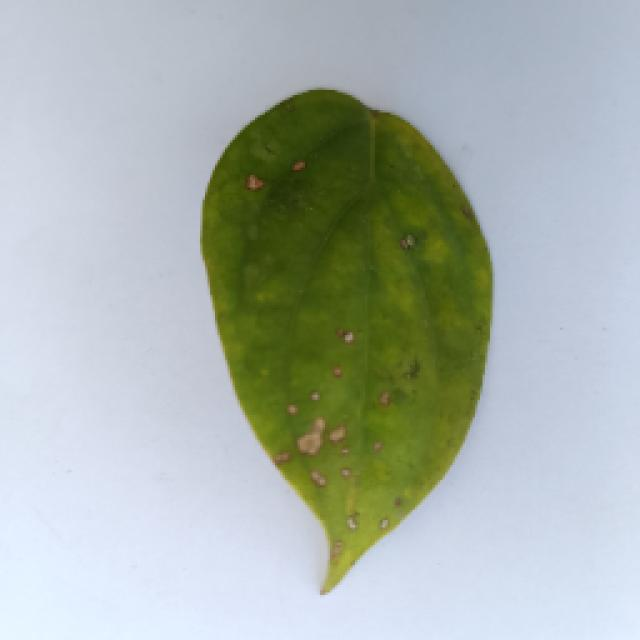slow-decline: (190, 83, 502, 595)
